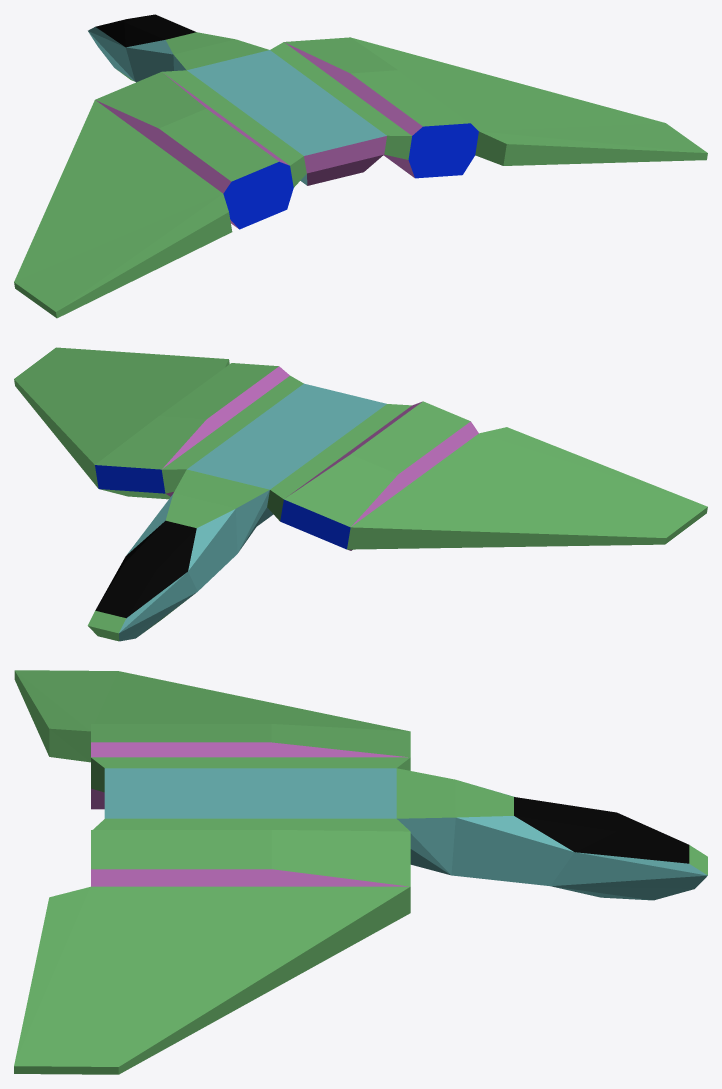
Rendered from ship_base.obj.
The picture shows the model from 3 angles, top to bottom: view 1: azimuth 30°, elevation 25°; view 2: azimuth 150°, elevation 25°; view 3: azimuth 270°, elevation 25°; orthographic projection. The views are drawn at different scales.
Visible parts, largest first — view 1: WingB01, WingA01, B_Torna, BoosterB02, BoosterA02, glow01, glow02, HalterA01, HalterB01, Cockpit02, BoosterB01, Heck01 (+3 smaller); view 2: WingB01, WingA01, B_Torna, BoosterB02, BoosterA02, Cockpit02, Glas01, Cockpit01, HalterB01, HalterA01, BoosterB01, BoosterA01 (+2 smaller); view 3: WingA01, B_Torna, Cockpit02, WingB01, BoosterA02, BoosterB02, Glas01, Cockpit01, BoosterA01, BoosterB01, HalterB01, HalterA01.
Part boxes in pixels (x1,y1,x2,y2): WingB01: (14, 100, 232, 318); WingA01: (351, 37, 707, 165); B_Torna: (187, 50, 386, 185); BoosterB02: (95, 72, 278, 181); BoosterA02: (284, 37, 470, 126); glow01: (408, 123, 478, 178); glow02: (223, 161, 293, 229); HalterA01: (270, 42, 411, 159); HalterB01: (162, 70, 306, 187); Cockpit02: (88, 27, 186, 82); BoosterB01: (96, 73, 289, 228); Heck01: (304, 136, 386, 185); WingB01: (347, 427, 707, 549); WingA01: (14, 347, 229, 488); B_Torna: (187, 383, 386, 526); BoosterB02: (284, 401, 470, 527); BoosterA02: (95, 363, 278, 499); Cockpit02: (119, 490, 269, 641); Glas01: (95, 520, 196, 618); Cockpit01: (87, 469, 269, 641); HalterB01: (267, 404, 411, 521); HalterA01: (162, 375, 303, 493); BoosterB01: (286, 401, 478, 550); BoosterA01: (162, 366, 289, 496); WingA01: (14, 886, 410, 1074); B_Torna: (104, 768, 396, 818); Cockpit02: (397, 788, 707, 900); WingB01: (14, 670, 408, 762); BoosterA02: (91, 830, 410, 886); BoosterB02: (91, 724, 410, 757); Glas01: (514, 797, 689, 863); Cockpit01: (396, 768, 707, 875); BoosterA01: (91, 869, 408, 886); BoosterB01: (91, 742, 407, 809); HalterB01: (91, 757, 410, 792); HalterA01: (93, 818, 409, 831).
Size of the model in its own units: 48.39 by 6.14 by 35.84.
